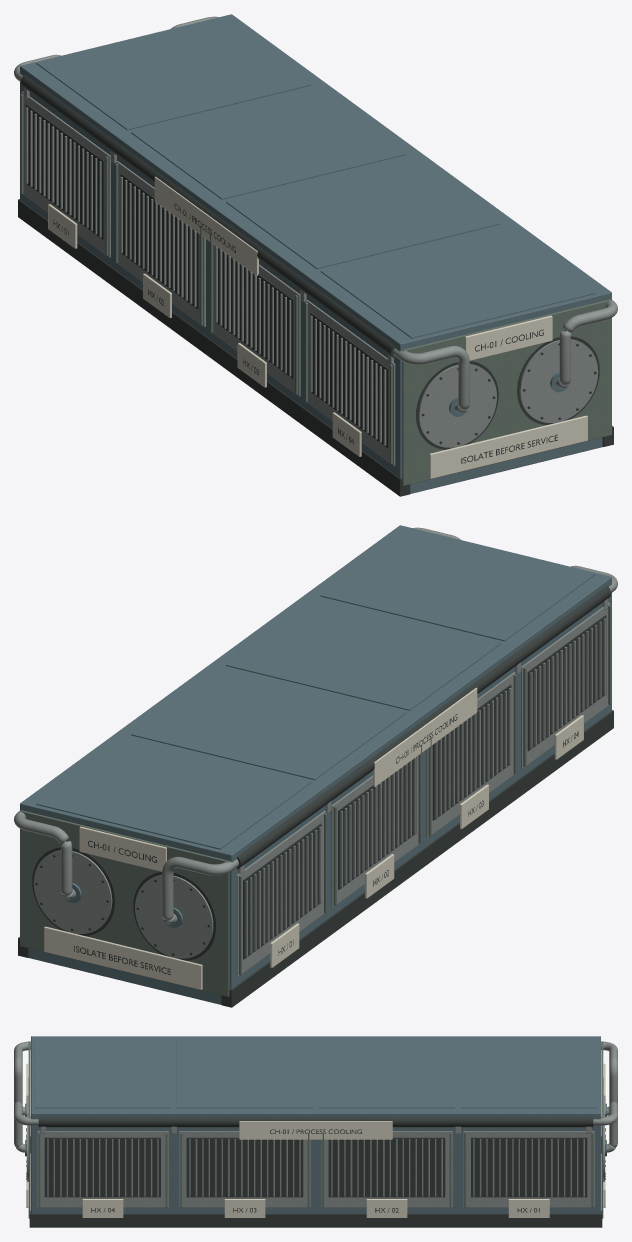
The model's file is cooling_exchanger.glb.
The picture shows the model from 3 angles, top to bottom: view 1: azimuth 30°, elevation 25°; view 2: azimuth 150°, elevation 25°; view 3: azimuth 270°, elevation 25°; orthographic projection. The views are drawn at different scales.
Parts seen in each view (by area): view 1: cooling_exchanger / power_pump_bluegray, cooling_exchanger / power_galvanized, cooling_exchanger / power_blackened_steel, cooling_exchanger / power_sage_enamel, cooling_exchanger / power_instrument_ivory; view 2: cooling_exchanger / power_pump_bluegray, cooling_exchanger / power_galvanized, cooling_exchanger / power_blackened_steel, cooling_exchanger / power_sage_enamel, cooling_exchanger / power_instrument_ivory; view 3: cooling_exchanger / power_pump_bluegray, cooling_exchanger / power_blackened_steel, cooling_exchanger / power_galvanized, cooling_exchanger / power_instrument_ivory, cooling_exchanger / power_sage_enamel.
Boxes of the visible parts, <box> form: cooling_exchanger / power_pump_bluegray: <box>20,14,611,493</box>; cooling_exchanger / power_galvanized: <box>14,16,617,465</box>; cooling_exchanger / power_blackened_steel: <box>18,75,613,496</box>; cooling_exchanger / power_sage_enamel: <box>20,94,611,485</box>; cooling_exchanger / power_instrument_ivory: <box>48,176,587,478</box>; cooling_exchanger / power_pump_bluegray: <box>20,525,611,1004</box>; cooling_exchanger / power_galvanized: <box>14,527,617,976</box>; cooling_exchanger / power_blackened_steel: <box>18,586,613,1007</box>; cooling_exchanger / power_sage_enamel: <box>20,605,611,996</box>; cooling_exchanger / power_instrument_ivory: <box>44,687,583,989</box>; cooling_exchanger / power_pump_bluegray: <box>25,1036,606,1213</box>; cooling_exchanger / power_blackened_steel: <box>26,1117,605,1227</box>; cooling_exchanger / power_galvanized: <box>14,1041,617,1207</box>; cooling_exchanger / power_instrument_ivory: <box>26,1063,605,1217</box>; cooling_exchanger / power_sage_enamel: <box>28,1041,603,1218</box>.
Size of the model in its own units: 3.42 by 2.24 by 10.63.
Materials: 5 (3 with a texture image).
